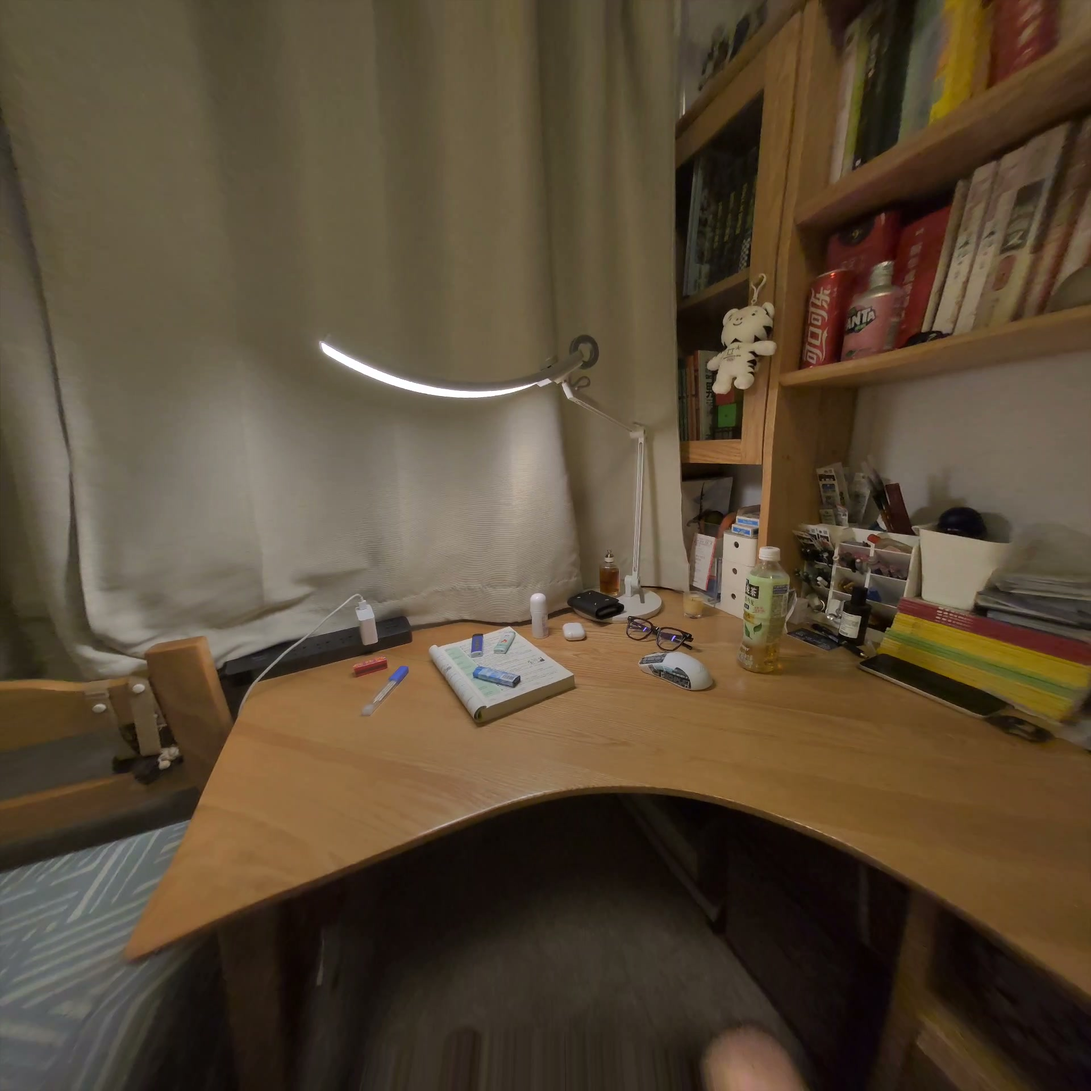lighter: (473, 666, 520, 687)
